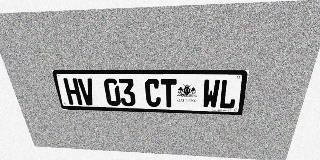0: (103, 78, 121, 106)
3: (118, 79, 136, 106)
C: (144, 79, 161, 107)
H: (63, 78, 83, 105)
L: (218, 79, 239, 109)
T: (161, 79, 177, 107)
V: (77, 78, 96, 105)
W: (202, 79, 221, 109)
